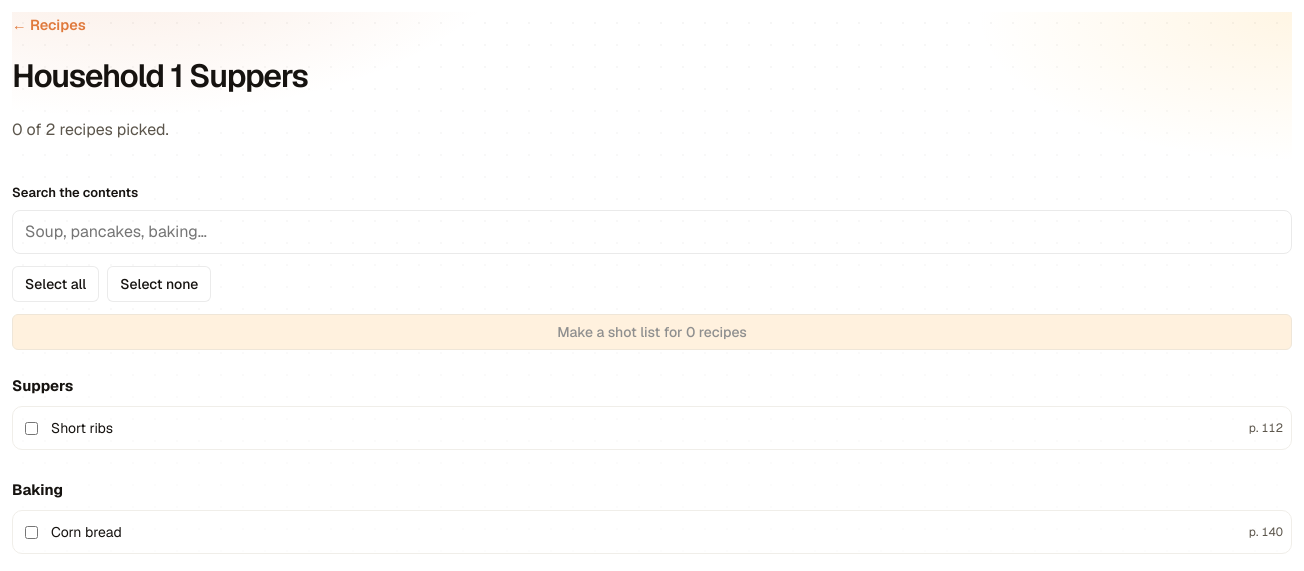
Test case: BookShotList picks › says when no recipes match the search
Type "no such recipe" into the search field labelled "Search the contents" at (652, 232), box x1=12 y1=210 x2=1292 y2=254
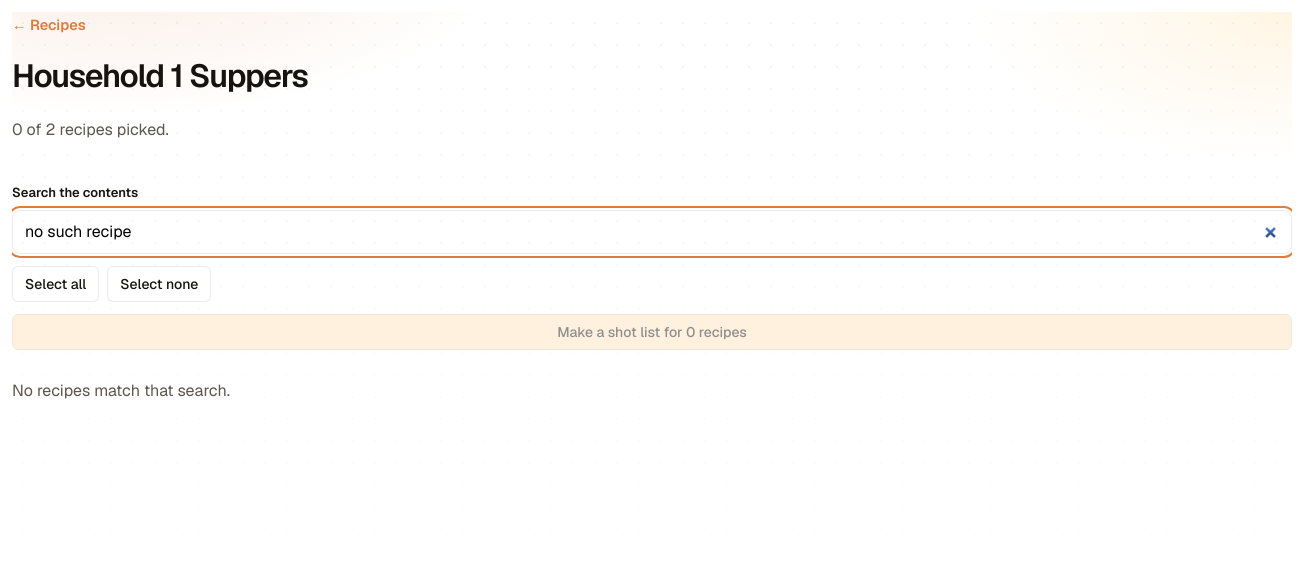
Expected: the text "No recipes match that search." is shown, x1=12 y1=380 x2=230 y2=401
Expected: the checkbox is gone
